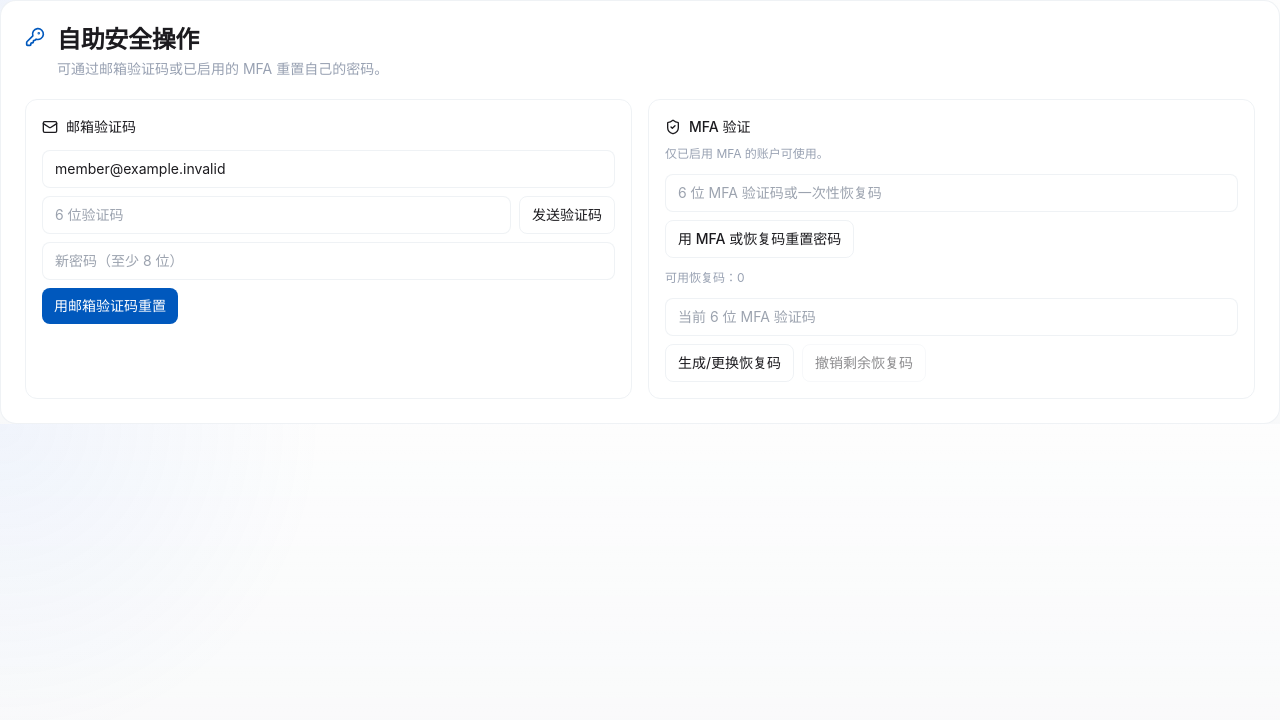
Test: SelfServiceSecurityPanel MFA recovery codes › requires current MFA and displays generated recovery codes only in the live page
This screenshot has width=1280, height=720.
In the field named "管理恢复码的当前 MFA 验证码": (952, 317) [665, 298, 1238, 336], type "123456"
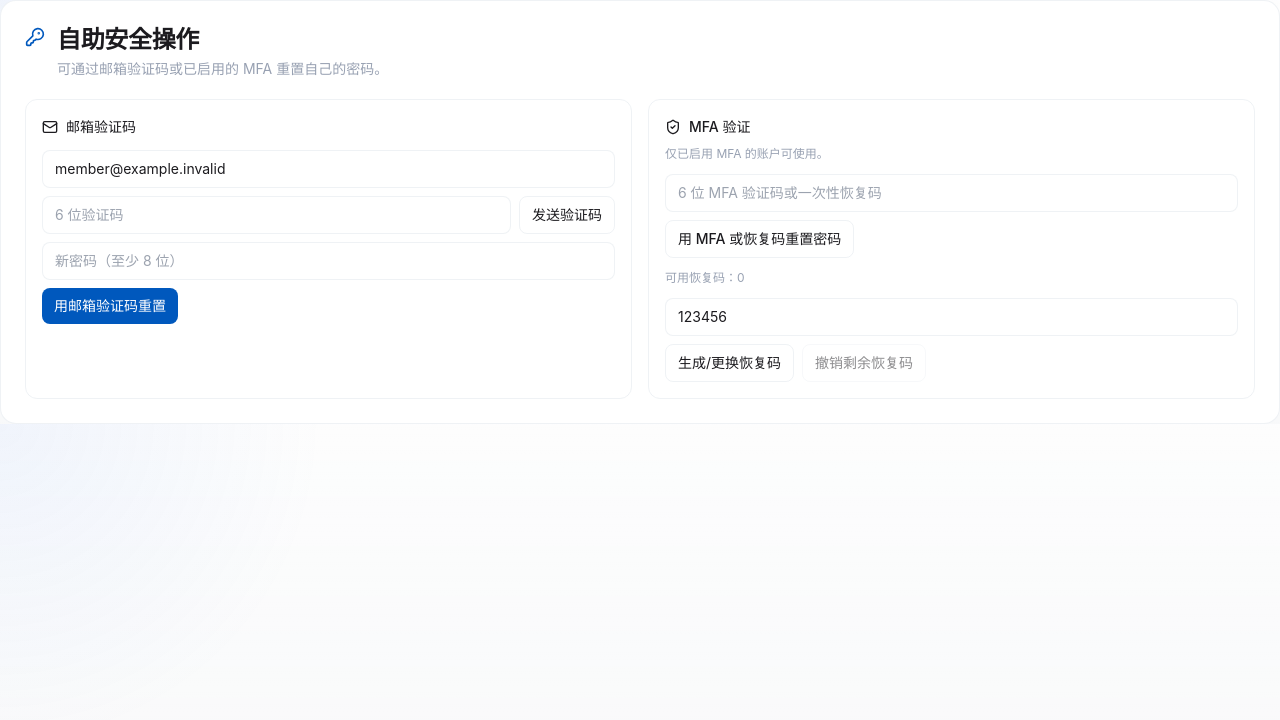
Click the button "生成/更换恢复码": (730, 363) [665, 344, 794, 382]
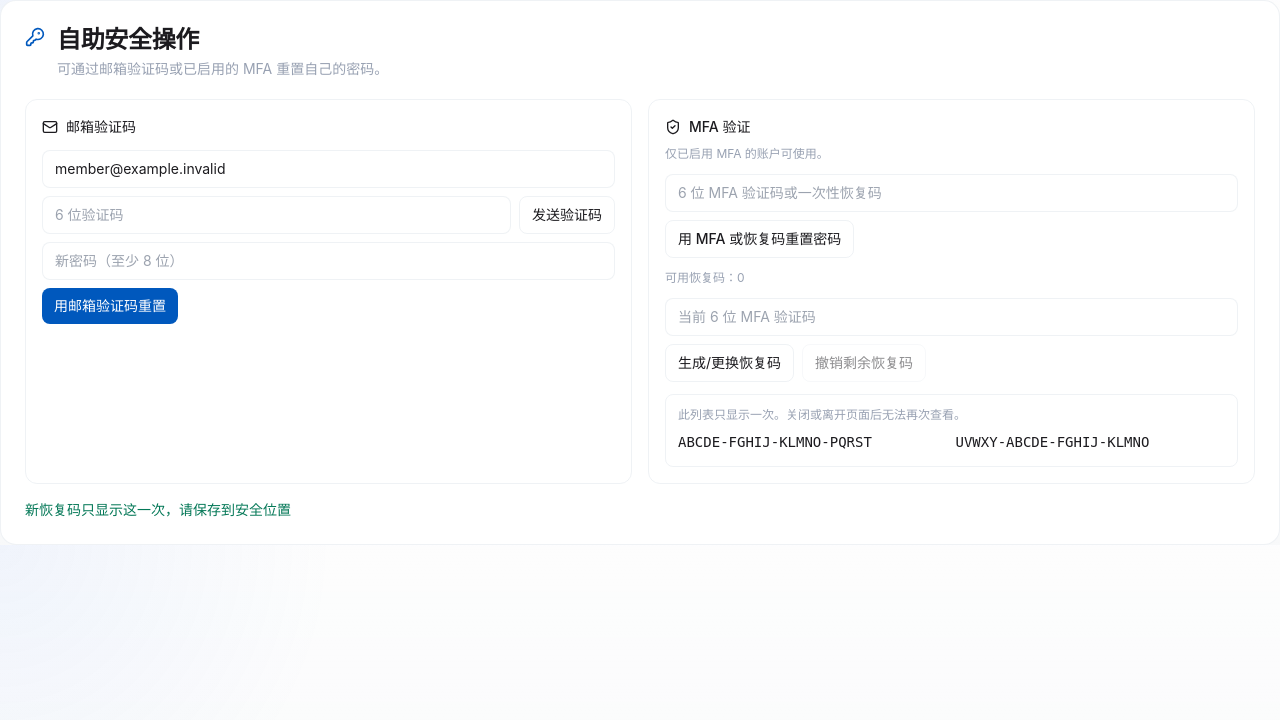
Now the list item "ABCDE-FGHIJ-KLMNO-PQRST" is shown, box [678, 434, 872, 450]
Now the list item "UVWXY-ABCDE-FGHIJ-KLMNO" is shown, box [956, 434, 1149, 450]
Now the text "新恢复码只显示这一次，请保存到安全位置" is shown, box [25, 501, 291, 518]
